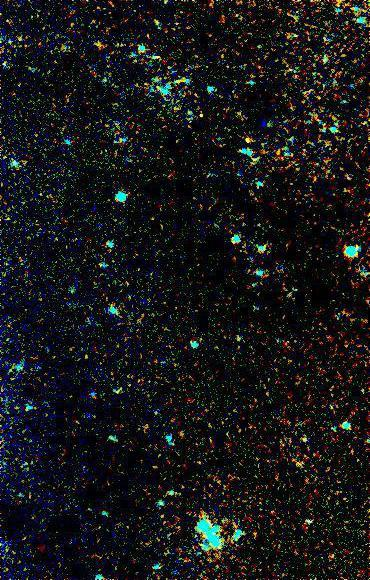star: (231, 125, 261, 155)
